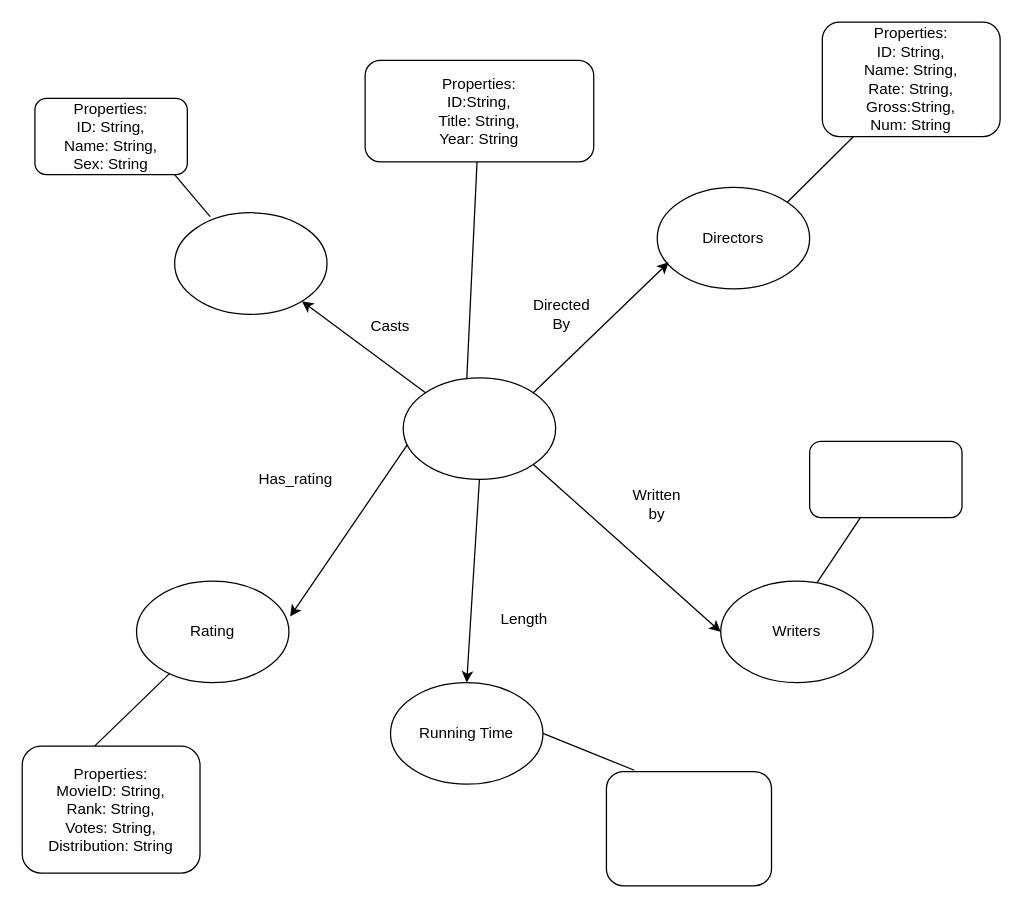
Some shapes in this 1022 by 908 pixel diagram are drawn without their labels. Each missing label, with the centre of its shape:
Actors: (x=250, y=262)
Movies: (x=479, y=428)
Properties: ID: String, Name: String: (x=885, y=479)
Properties: MovieID: String, Time: String, Addition: String, Time1: String: (x=688, y=828)
